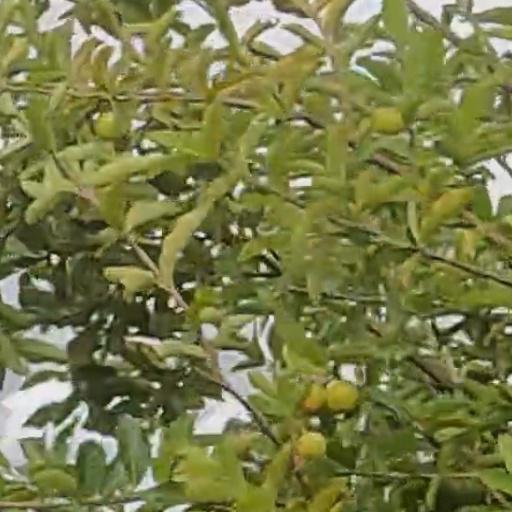acerola: (95, 110, 130, 138), (328, 380, 357, 411), (301, 435, 326, 459)
